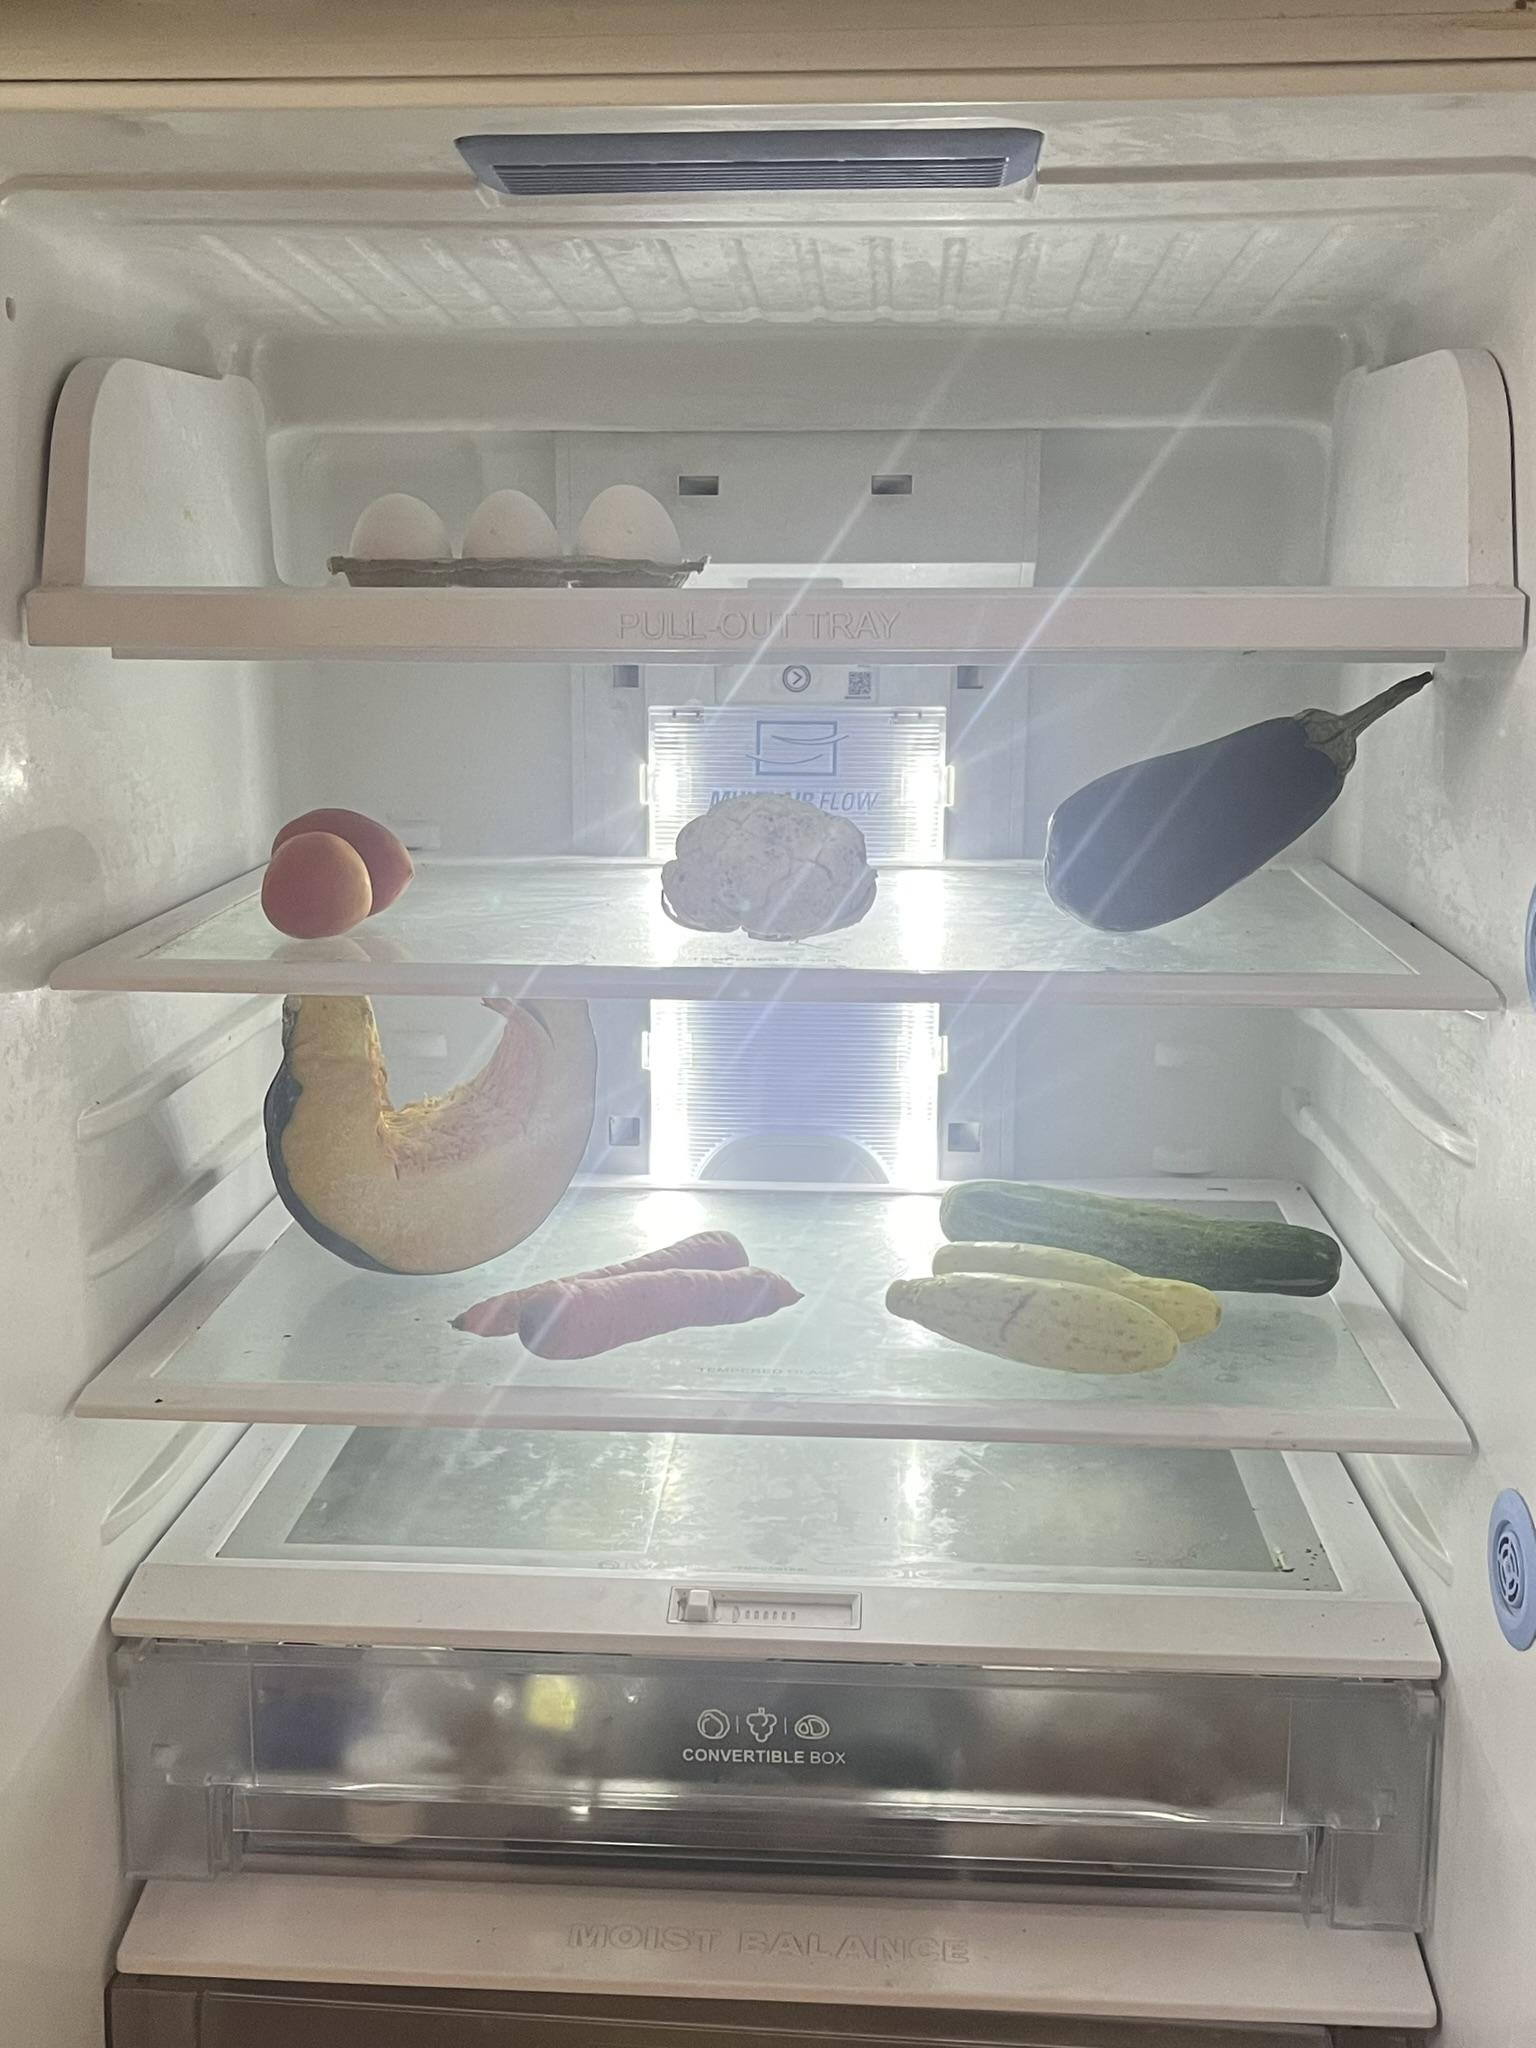bringal: (1037, 661, 1442, 932)
carrots: (447, 1227, 771, 1366)
cauliflower: (662, 792, 878, 939)
cucumber: (881, 1232, 1231, 1372), (947, 1172, 1331, 1290)
egg: (342, 492, 697, 589)
pumpkin: (282, 992, 591, 1276)
tomato: (255, 797, 411, 935)
